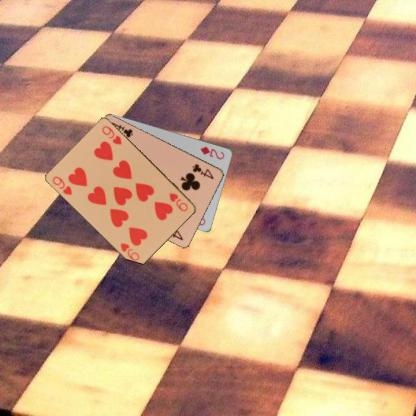2d: (198, 143, 226, 161)
4c: (190, 161, 216, 180)
9h: (50, 173, 73, 196), (167, 190, 189, 213)
